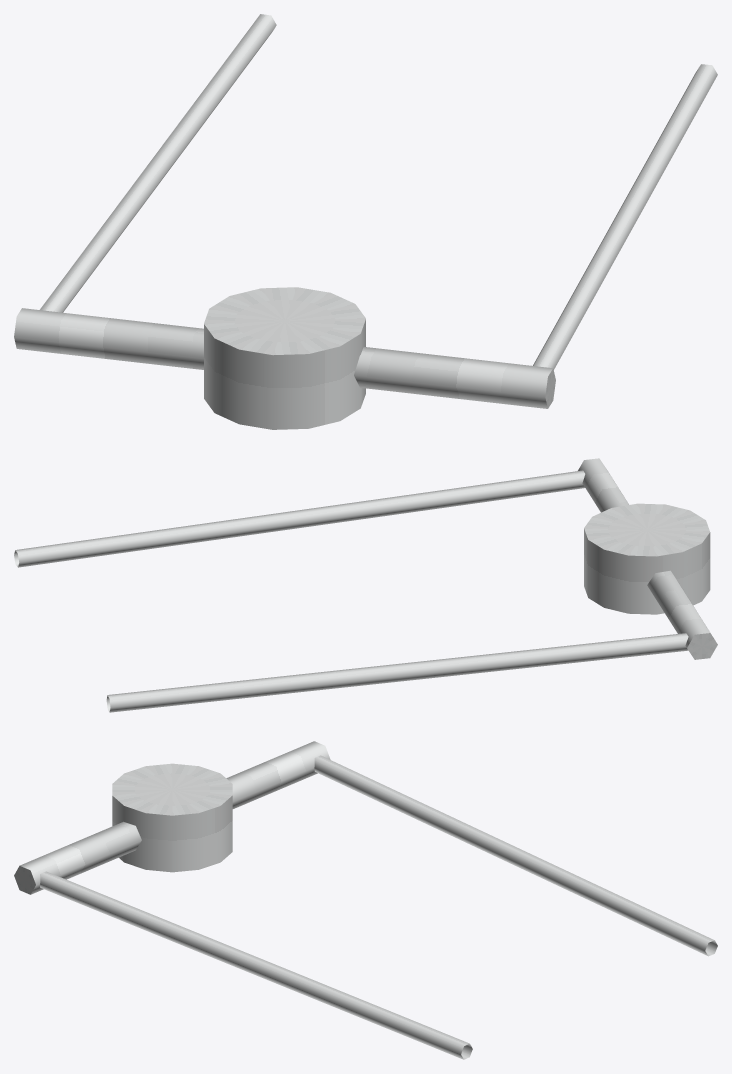
The model's file is nycsignalarm_diagonal12_c0_pedestal.obj.
3 views of the same model, one above another, from view 1: azimuth 30°, elevation 25°; view 2: azimuth 150°, elevation 25°; view 3: azimuth 270°, elevation 25° (orthographic). The views are drawn at different scales.
Parts seen in each view (by area): view 1: nycsignalarm_diagonal12_c0_pedestal; view 2: nycsignalarm_diagonal12_c0_pedestal; view 3: nycsignalarm_diagonal12_c0_pedestal.
Boxes of the visible parts, box(x1,y1,x2,y2) form: nycsignalarm_diagonal12_c0_pedestal: box(14, 14, 717, 429); nycsignalarm_diagonal12_c0_pedestal: box(14, 458, 717, 712); nycsignalarm_diagonal12_c0_pedestal: box(14, 741, 717, 1059).
Size of the model in its own units: 2.53 by 0.225 by 2.53.
